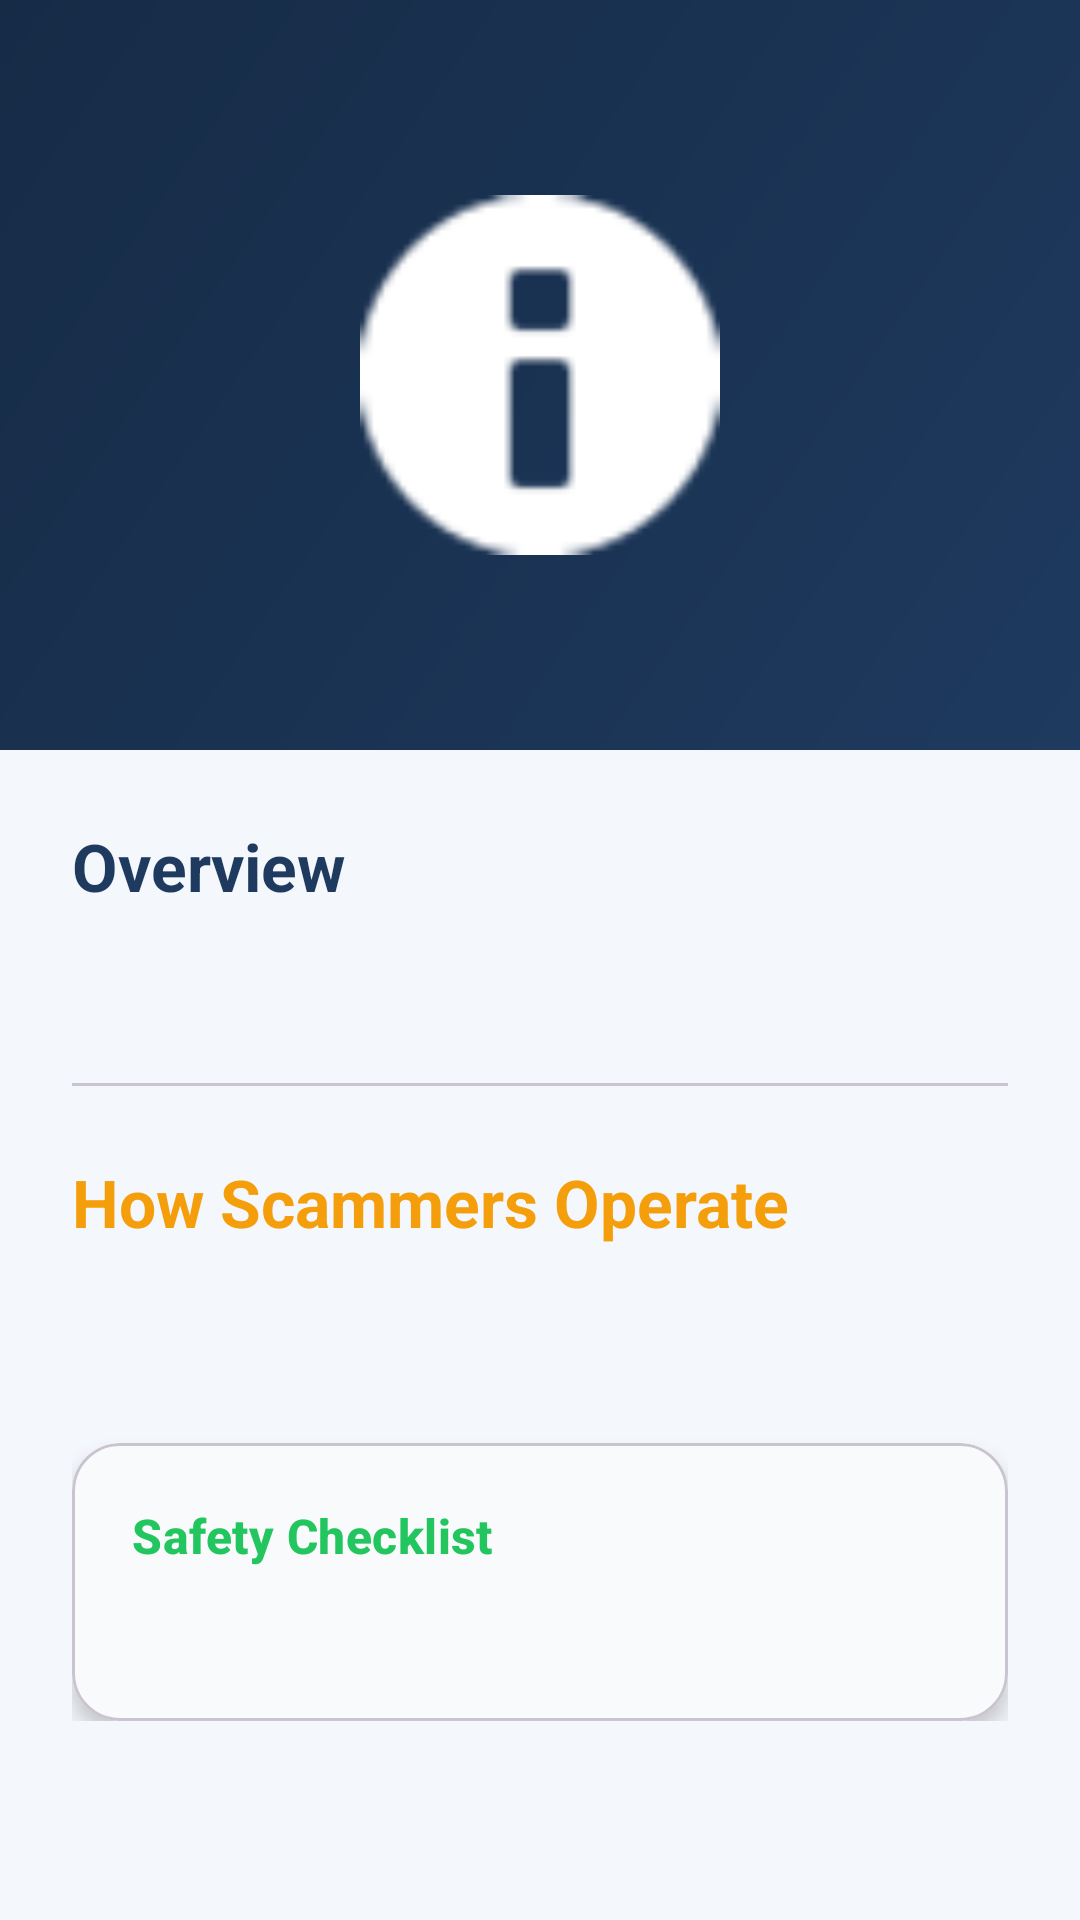

Where icons sit on this 1080 x 1920 app screen, as (x1, y1, x2, y2):
info: (360, 195, 720, 555)
